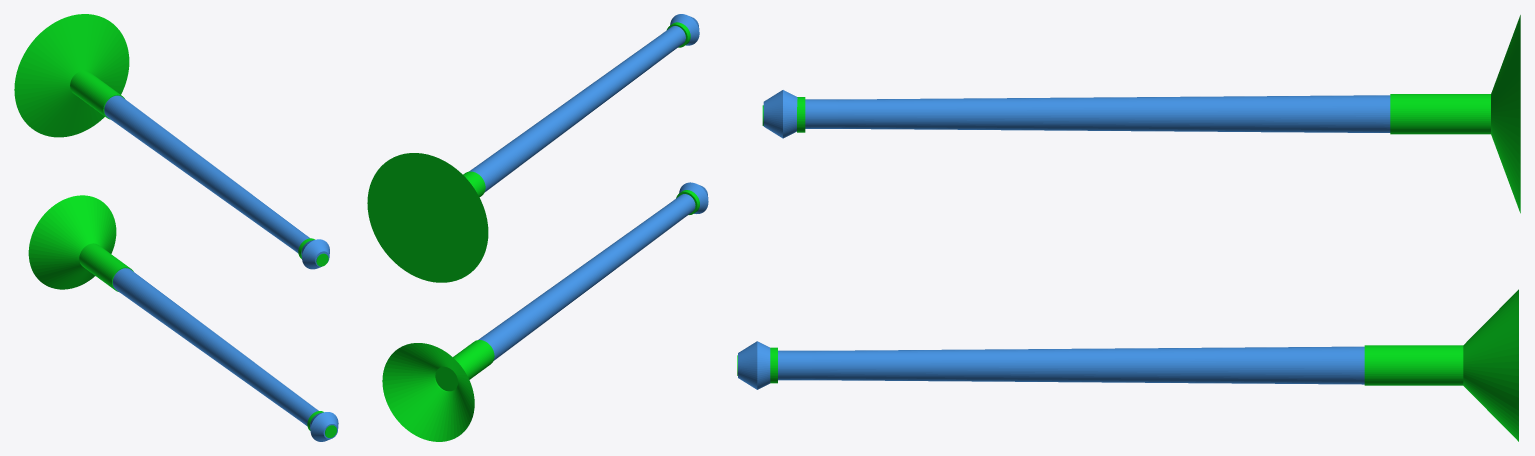
The model's file is Shots.fbx.
3 views of the same model, side by side, from view 1: azimuth 30°, elevation 25°; view 2: azimuth 150°, elevation 25°; view 3: azimuth 270°, elevation 25° (orthographic). The views are drawn at different scales.
Parts seen in each view (by area): view 1: Shot_Used, Shot_Ready; view 2: Shot_Used, Shot_Ready; view 3: Shot_Ready, Shot_Used.
Boxes of the visible parts, x1,y1,x2,y2 form: Shot_Used: (14,14,329,269); Shot_Ready: (28,195,338,441); Shot_Used: (367,14,699,282); Shot_Ready: (382,182,708,441); Shot_Ready: (737,289,1518,441); Shot_Used: (762,15,1520,213).
Size of the model in its own units: 30.84 by 69.82 by 120.
